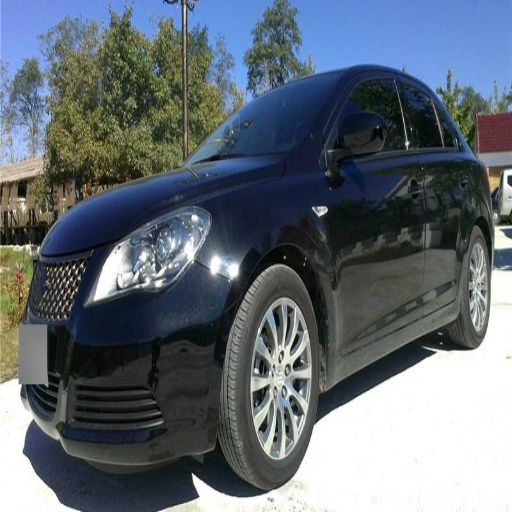front_bumper: (19, 236, 241, 471)
front_glass: (200, 75, 342, 159)
front_left_door: (326, 73, 424, 350)
